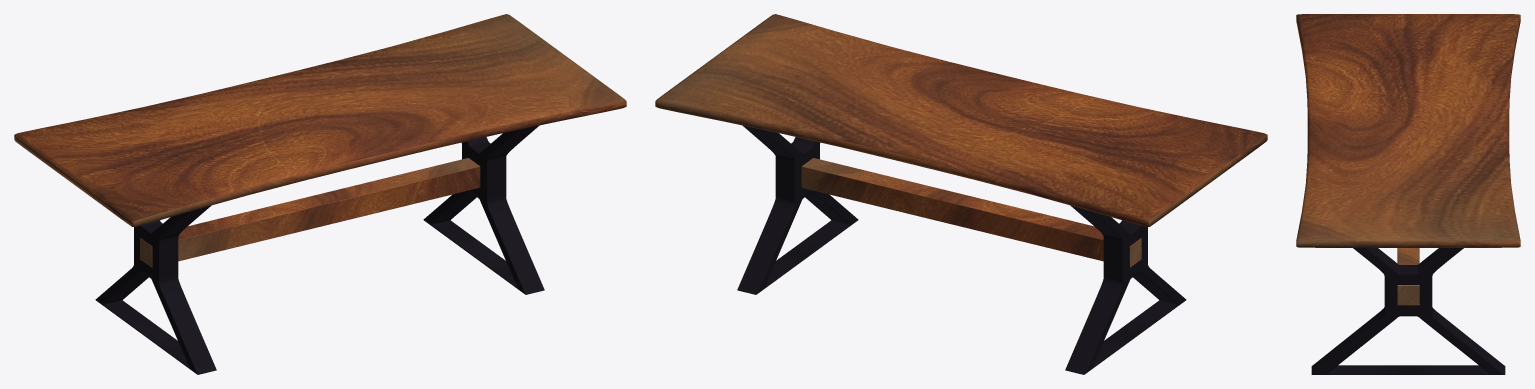
The model's file is TABLE1.fbx.
The picture shows the model from 3 angles, left to right: view 1: azimuth 30°, elevation 25°; view 2: azimuth 150°, elevation 25°; view 3: azimuth 270°, elevation 25°; orthographic projection. The views are drawn at different scales.
Visible parts, largest first — view 1: Cube.002; view 2: Cube.002; view 3: Cube.002.
Boxes of the visible parts, box(x1,y1,x2,y2) form: Cube.002: box(14, 14, 626, 374); Cube.002: box(655, 14, 1267, 374); Cube.002: box(1296, 14, 1520, 374).
Size of the model in its own units: 244 by 84.77 by 102.
2 materials, 1 textured.
